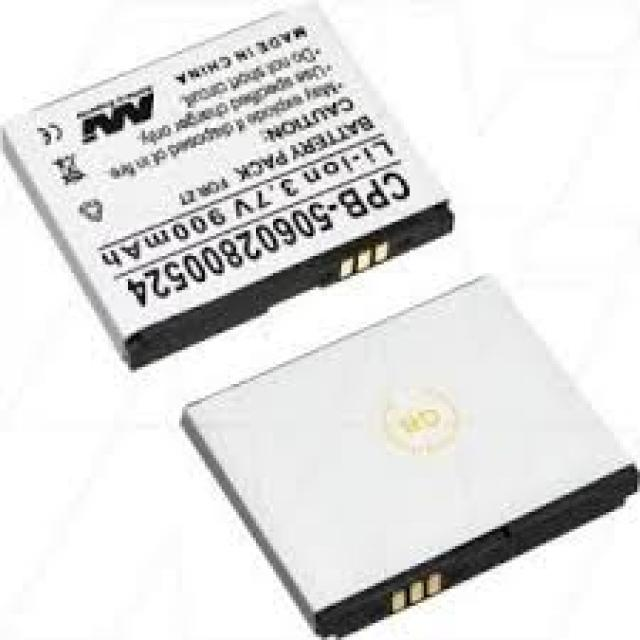non-organic waste: (5, 0, 454, 375), (185, 270, 639, 640)
